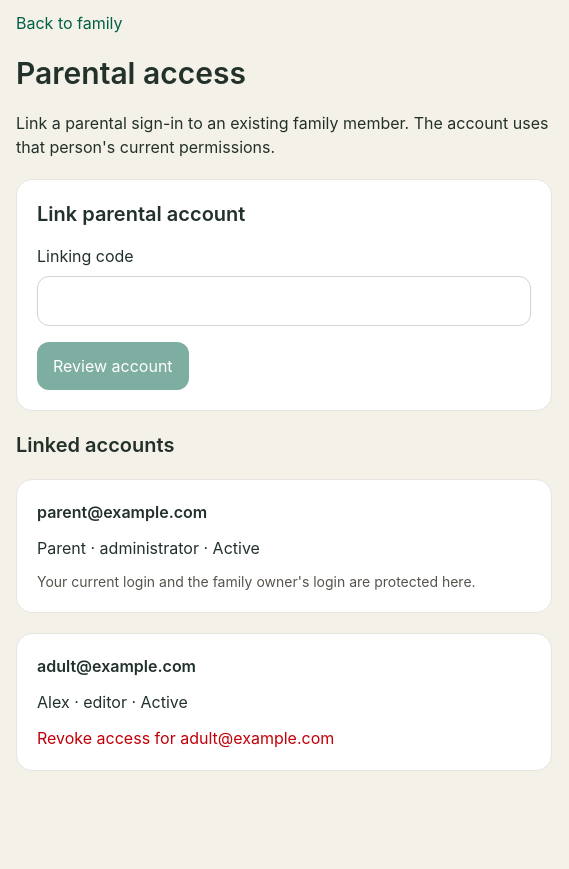
it: requires profile selection and explicit acknowledgement for an additional login
This screenshot has width=569, height=869.
Step 1. Type "ABCD-EFGH" into the field labelled "Linking code" → x=284, y=301, box [37,276,531,326]
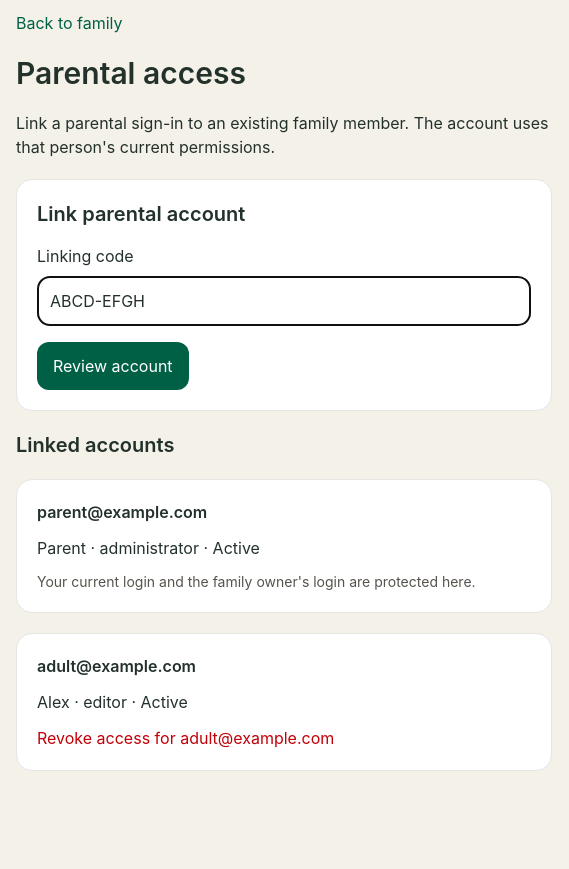
Step 2. Click the button "Review account" → x=113, y=366, box [37,342,189,390]
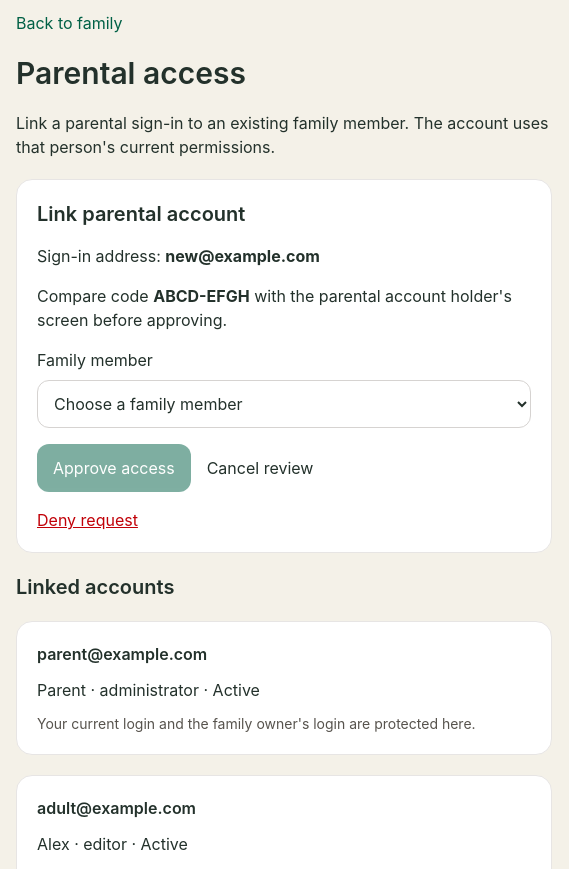
Check: the text "new@example.com" is shown, box [165,246,320,266]
Check: the button "Approve access" is disabled, box [37,444,191,492]
Step 3. Select "Alex" in the dropdown labelled "Family member" → x=284, y=404, box [37,380,531,428]
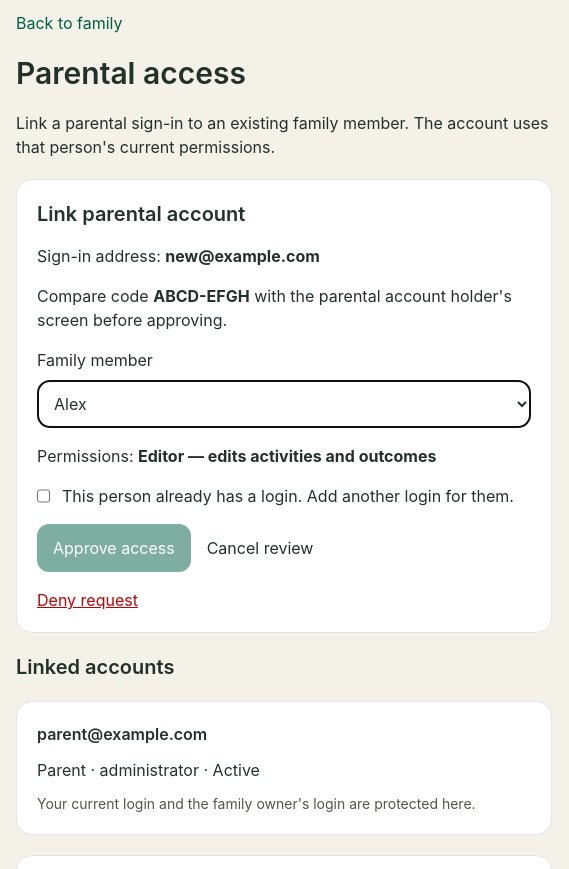
Check: the button "Approve access" is disabled, box [37,524,191,572]
Check: the text "Editor — edits activities and outcomes" is shown, box [138,446,436,466]
Step 4. Click the checkbox → x=44, y=496, box [37,484,50,508]
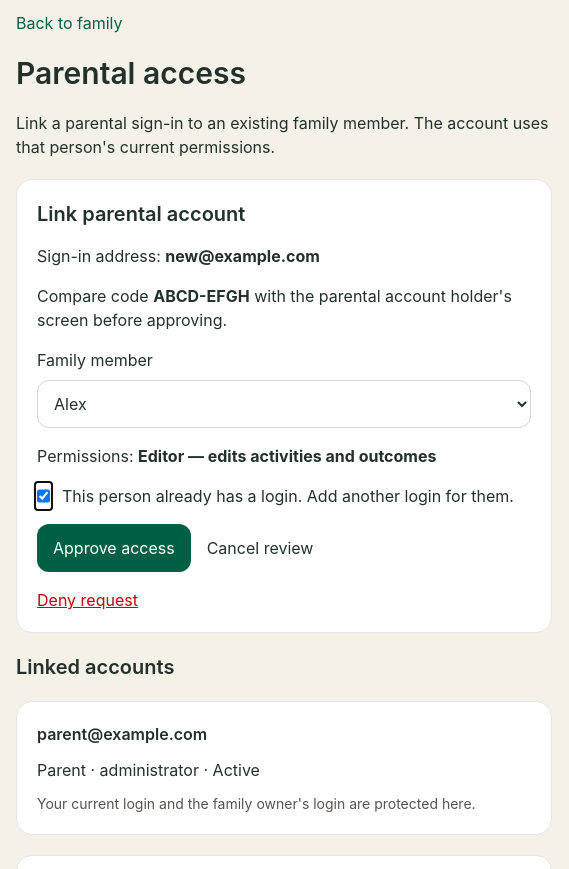
Step 5. Click the button "Approve access" → x=114, y=548, box [37,524,191,572]
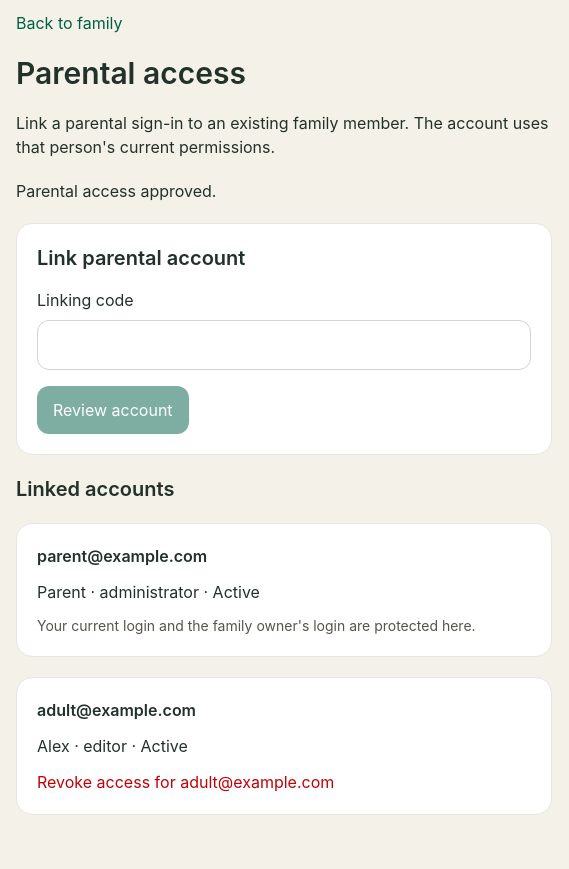
Check: the text "Parental access approved." is shown, box [16,181,216,201]
